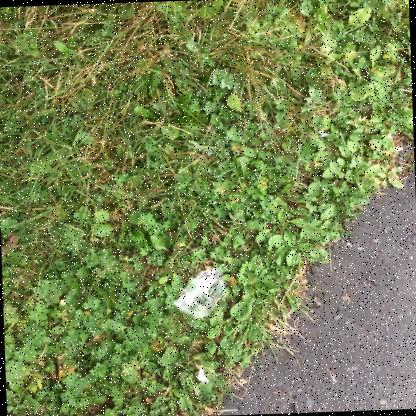Plastic film: (173, 267, 226, 319)
